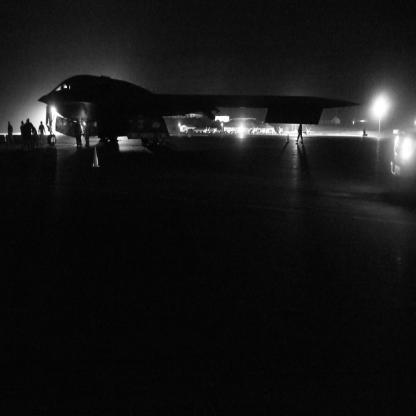B2: (38, 75, 363, 147)
F18: (303, 128, 316, 137), (275, 128, 288, 137), (204, 127, 215, 135), (251, 127, 260, 136), (228, 128, 237, 136)
